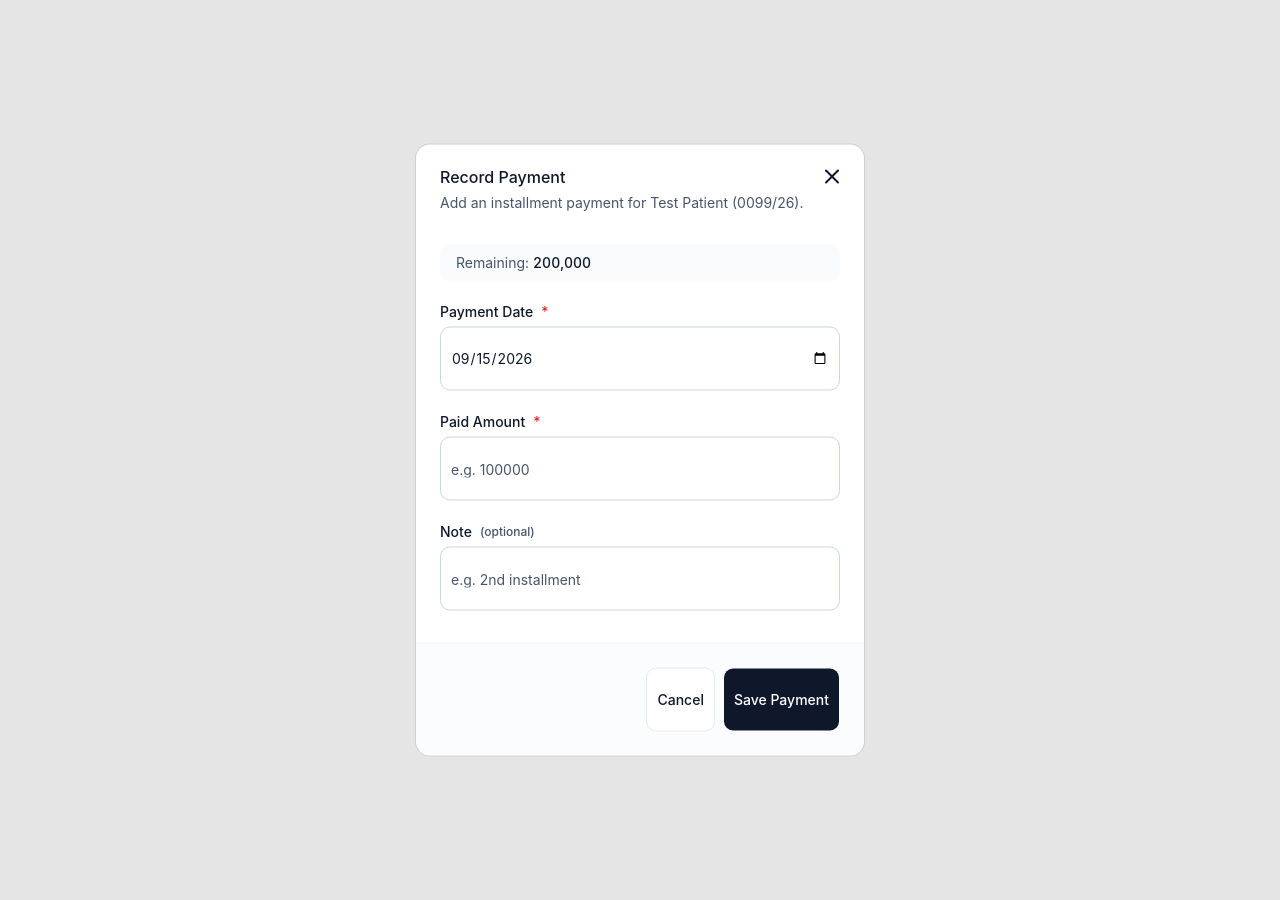
Test: PaymentDialog › shows validation error when amount exceeds remaining
Type "250000" into the field labelled "Paid Amount *" at (640, 468), box [440,436,840,500]
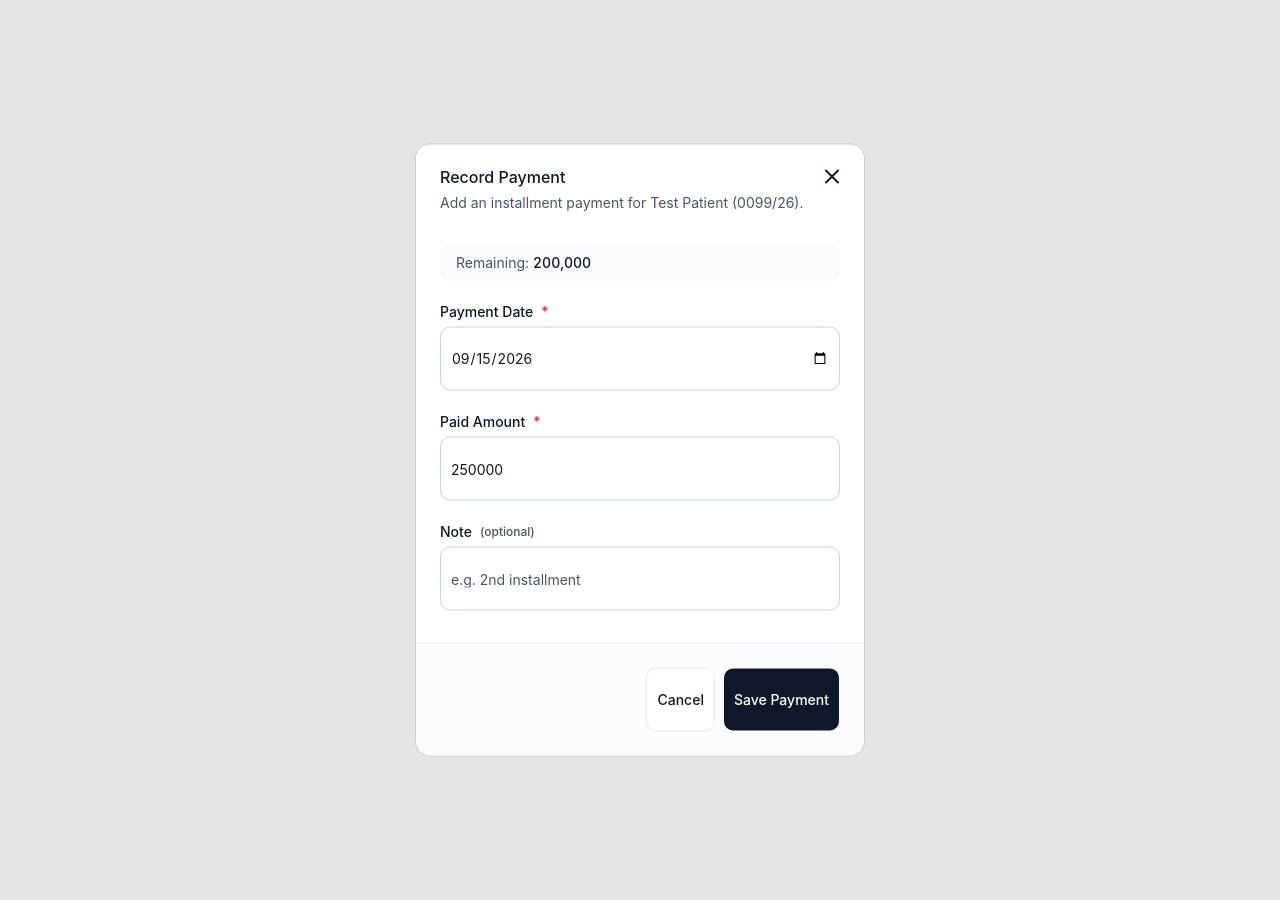
Click the button "Save Payment" at (781, 700), box [723,668,840,732]
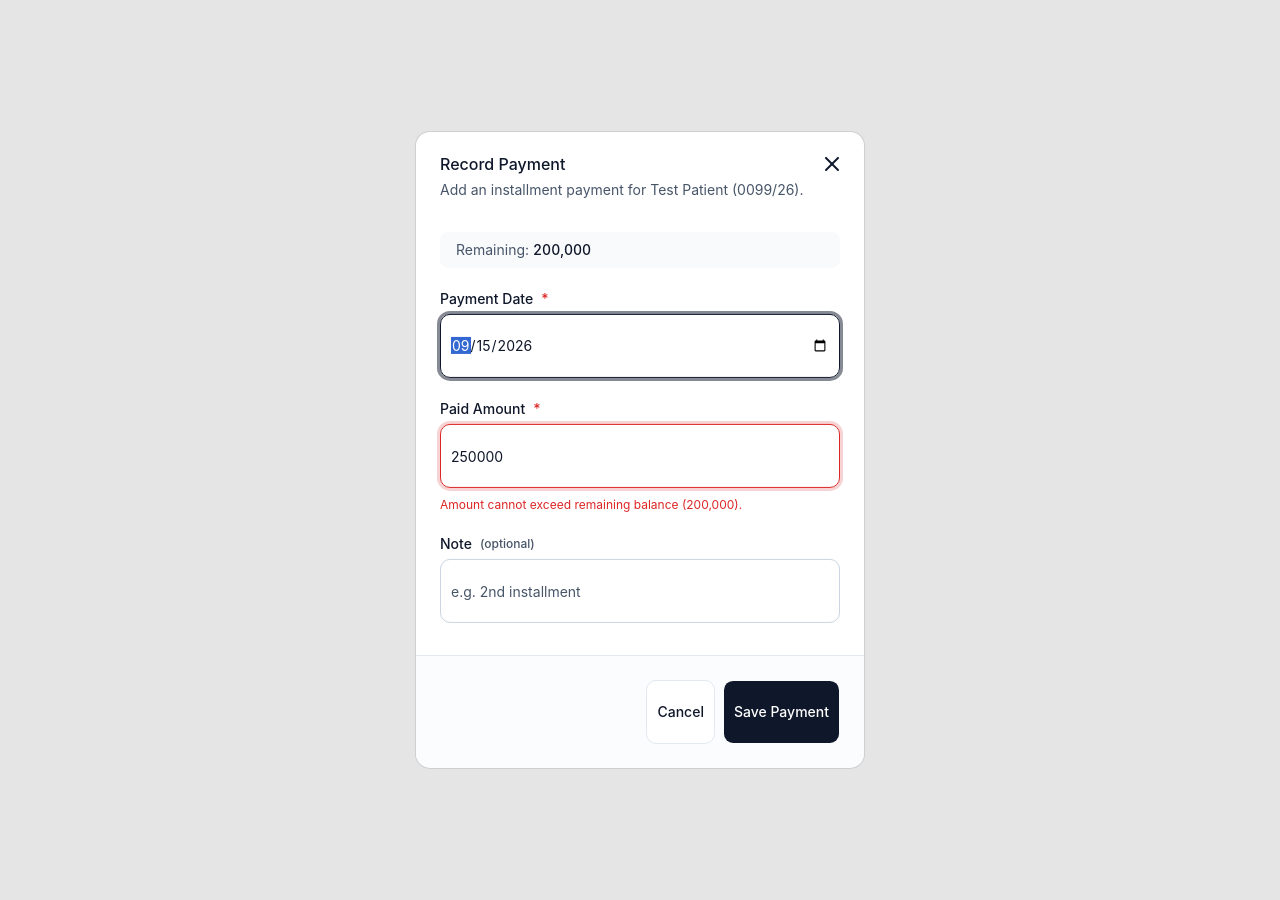
Result: the text "Amount cannot exceed remaining balance (200,000)." is shown at [440,497,742,512]
